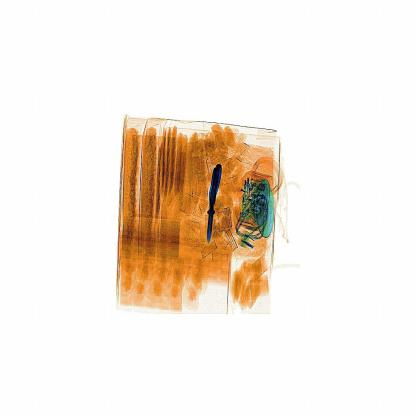gun: (198, 148, 232, 250)
